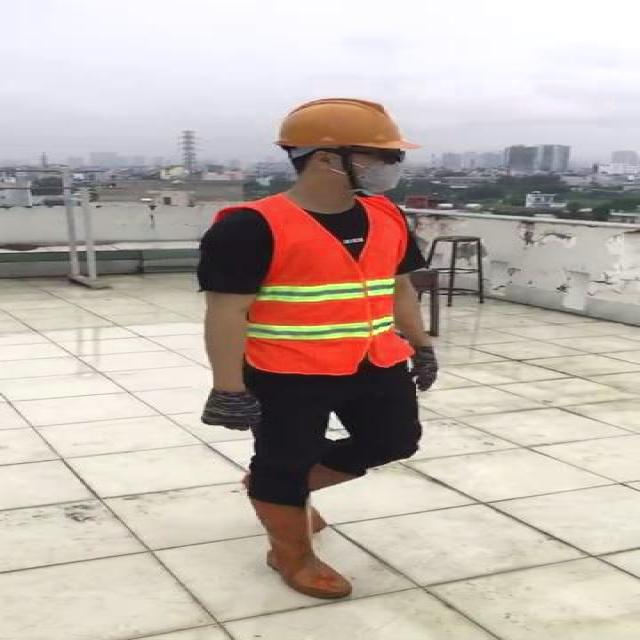boots: (247, 497, 357, 600)
face_mask: (348, 146, 418, 196)
glasses: (364, 146, 412, 170)
hand_glove: (197, 388, 267, 430), (405, 343, 441, 389)
head_helmet: (266, 92, 420, 158)
person: (175, 89, 456, 616)
vest: (245, 192, 412, 374)
